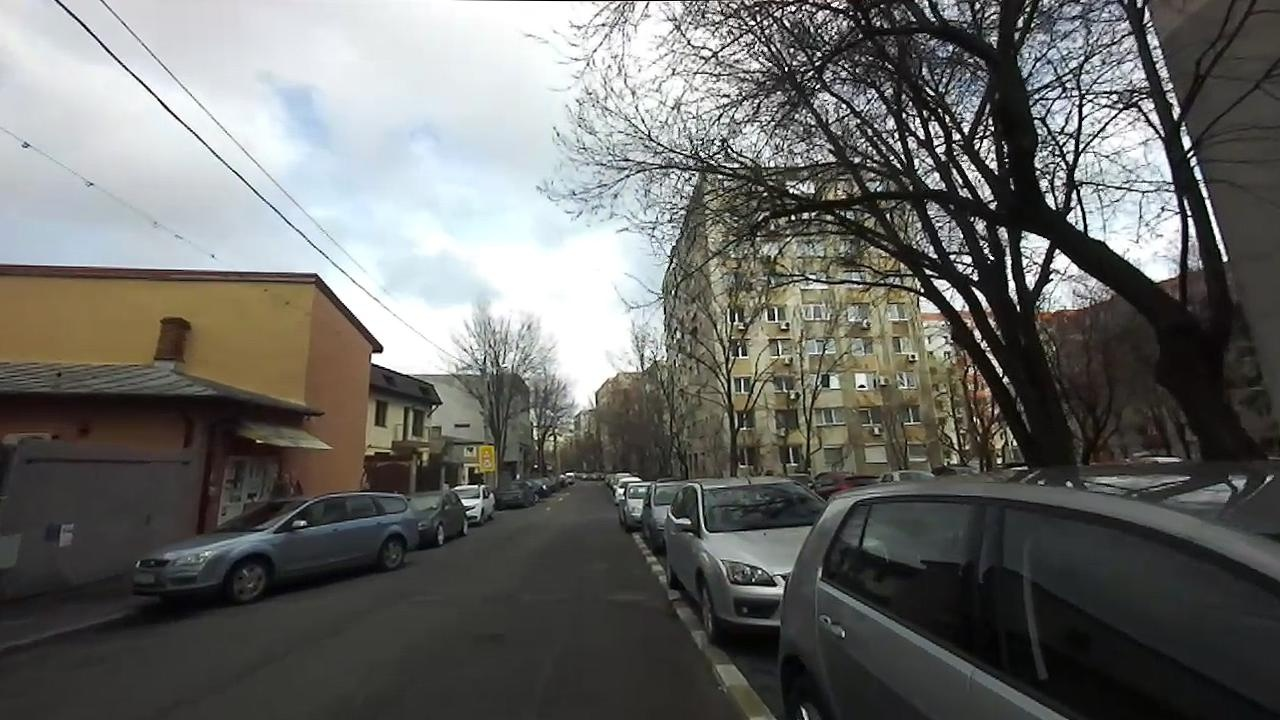pothole: (466, 626, 503, 648)
